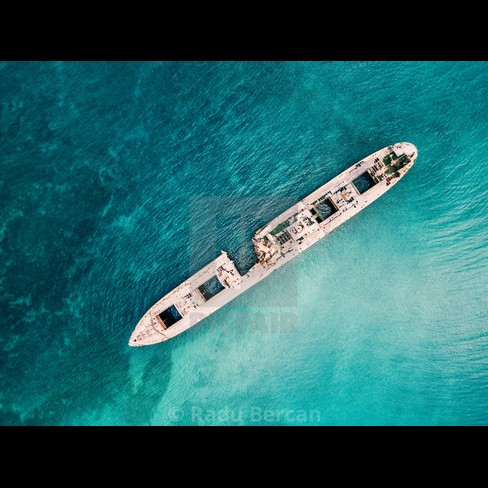boat: (120, 131, 422, 358)
